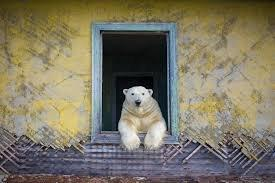bear: (113, 85, 170, 154)
